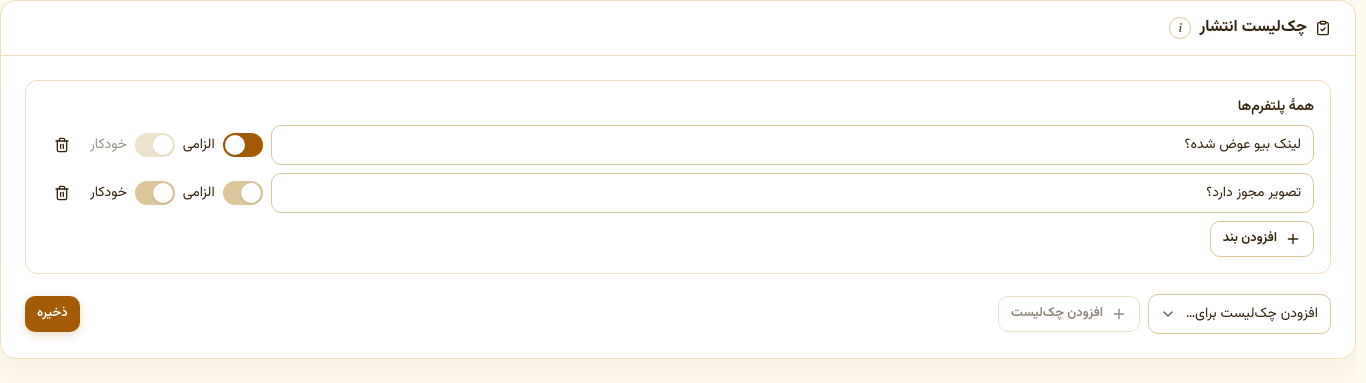
Test: ChecklistsCard › turning a point to required turns the automatic option off, and the other way round
Note: second point: required off, auto off → make it automatic, then it cannot be required
Step 1. Click the 3rd switch → point(155, 193), box [135,181,175,205]
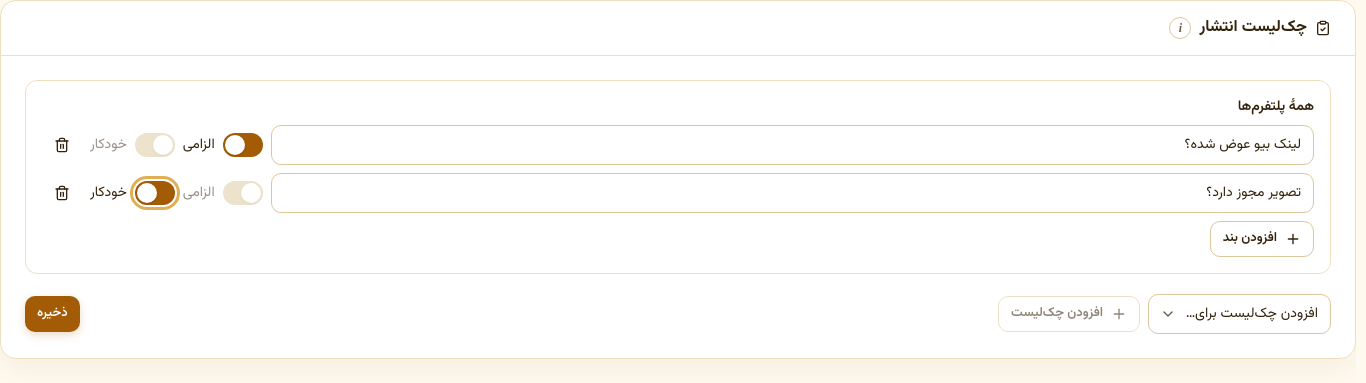
expect the 1st switch is disabled: met, box [135,133,175,157]
expect the 4th switch is disabled: met, box [223,181,263,205]
